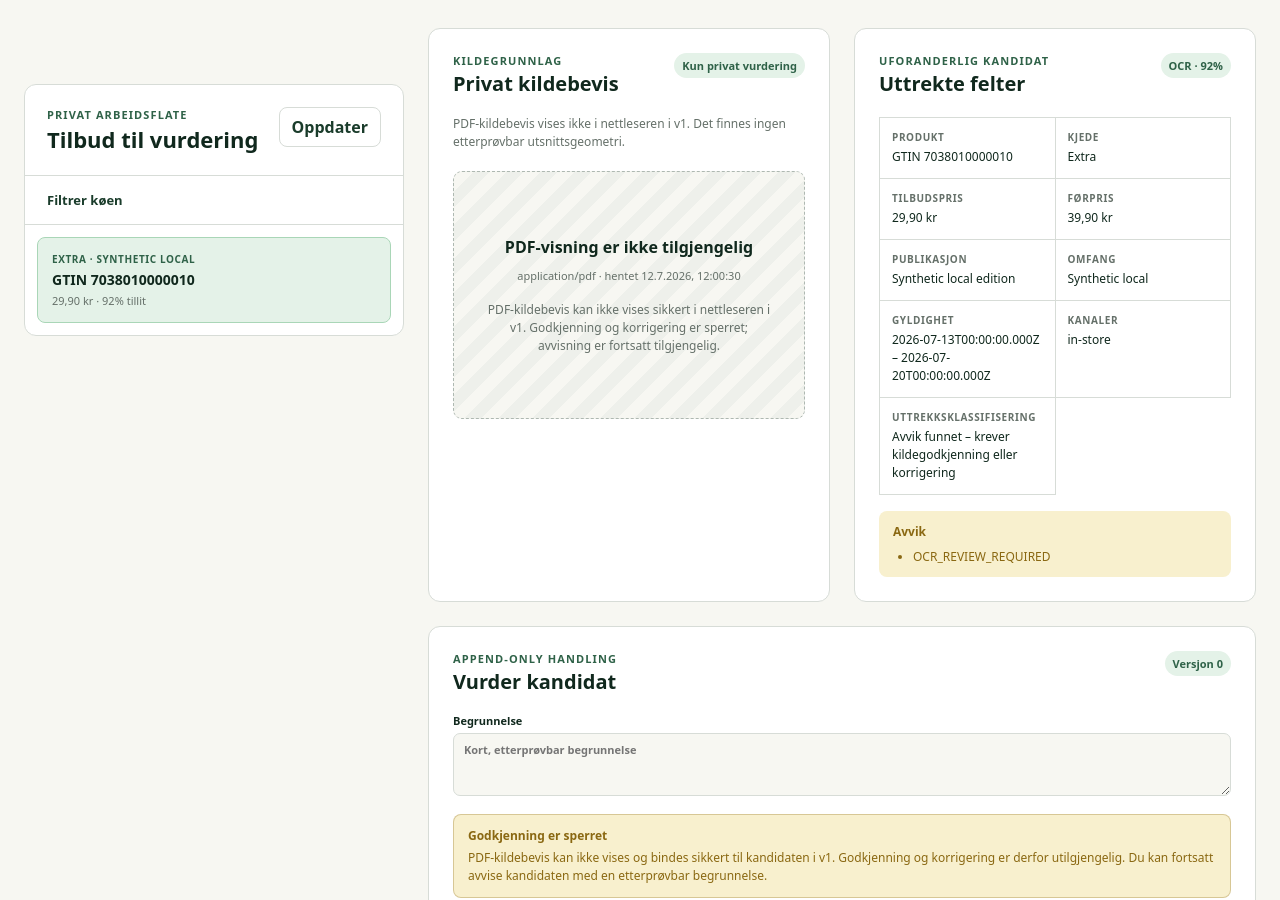
Test: ReviewWorkspace › does not fetch or frame unsupported PDF evidence and keeps approval blocked
This screenshot has width=1280, height=900.
Check: the heading "Vurder kandidat" is shown, box x1=453 y1=669 x2=617 y2=695
Check: the text "PDF-kildebevis kan ikke vises sikkert i nettleseren i v1" is shown, box x1=488 y1=300 x2=770 y2=354
Type "PDF-visning er ikke støttet i v1." into the text box labelled "Begrunnelse" at x=842, y=764, box x1=453 y1=733 x2=1231 y2=796
(page scrolled)
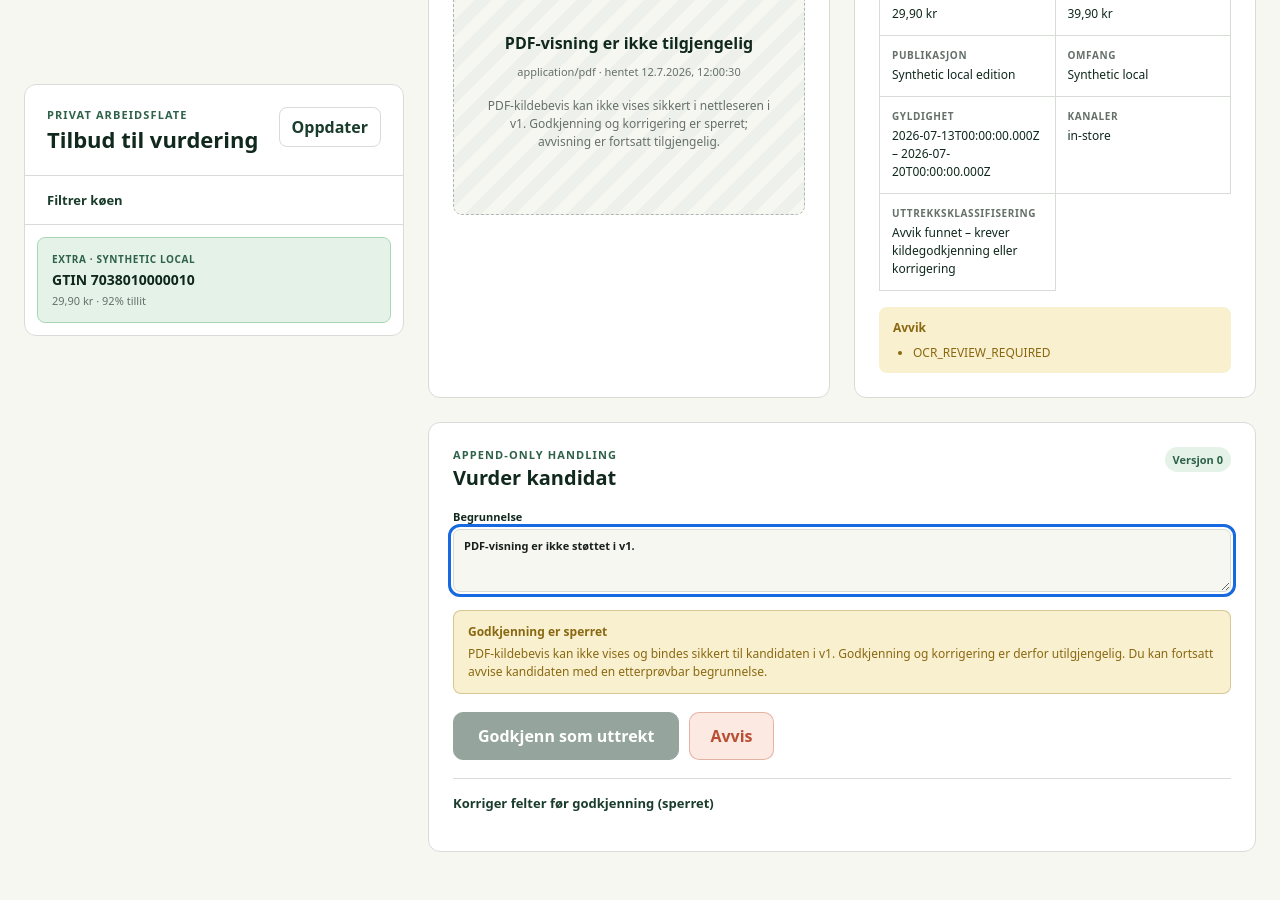
Check: the button "Avvis" is enabled, box x1=690 y1=712 x2=774 y2=760
